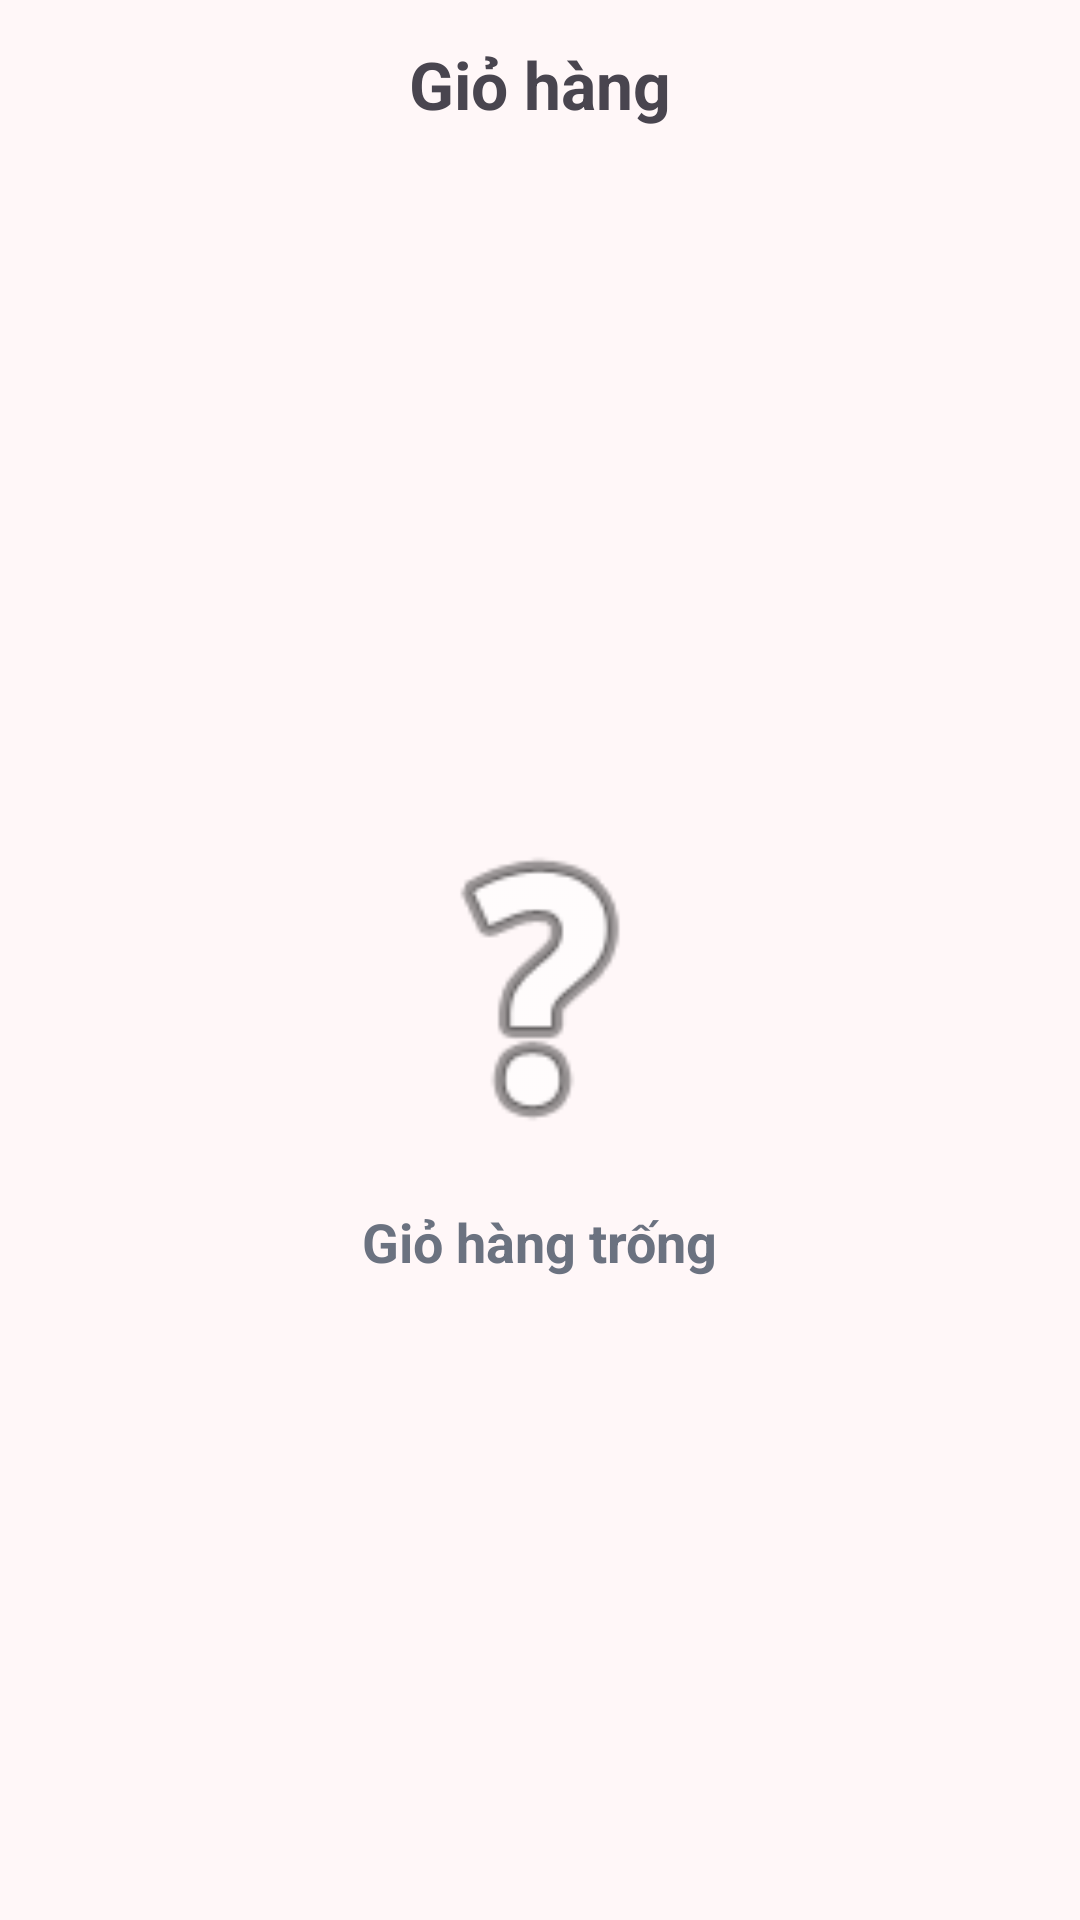

Locate icon controls on the screen. Image size 1080px×1920px, boxes as (x1, y1, x2, y2).
help: (461, 860, 620, 1118)
